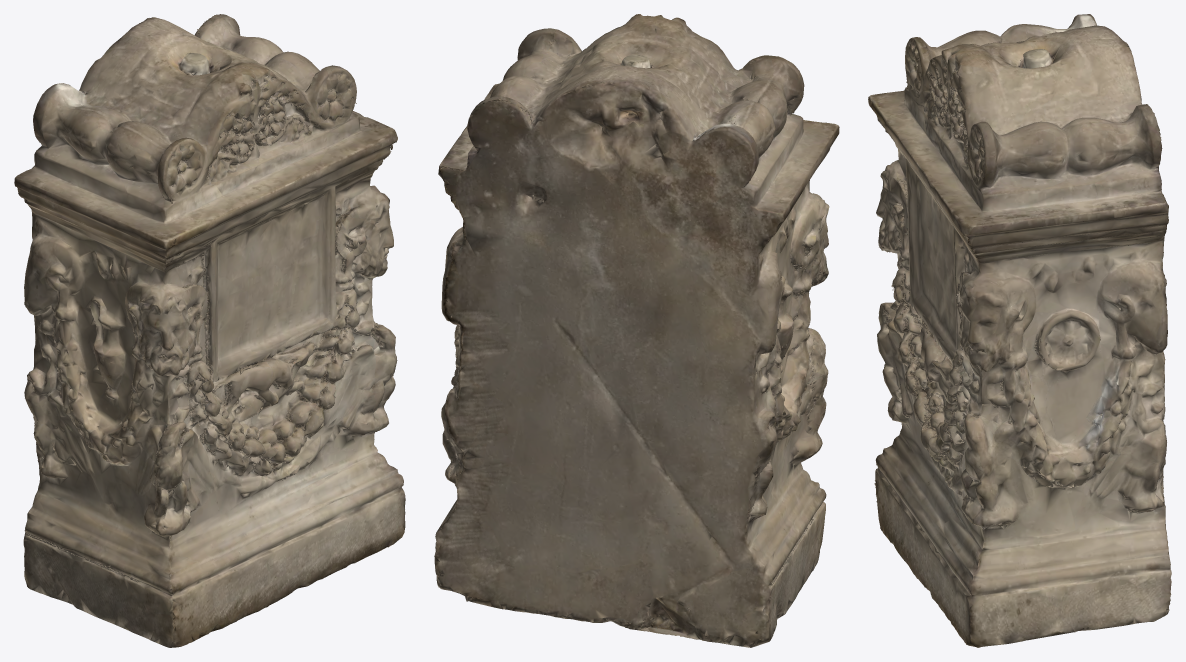
File: preview.glb
3 views of the same model, side by side, from view 1: azimuth 30°, elevation 25°; view 2: azimuth 150°, elevation 25°; view 3: azimuth 270°, elevation 25° (orthographic). The views are drawn at different scales.
Visible parts, largest first — view 1: Object_2; view 2: Object_2; view 3: Object_2.
Boxes of the visible parts, <box> form: Object_2: <box>14,14,405,647</box>; Object_2: <box>434,14,839,647</box>; Object_2: <box>868,14,1171,647</box>.
Bounding box in the file's own units: 527 × 781 × 402.
1 material, 1 textured.
